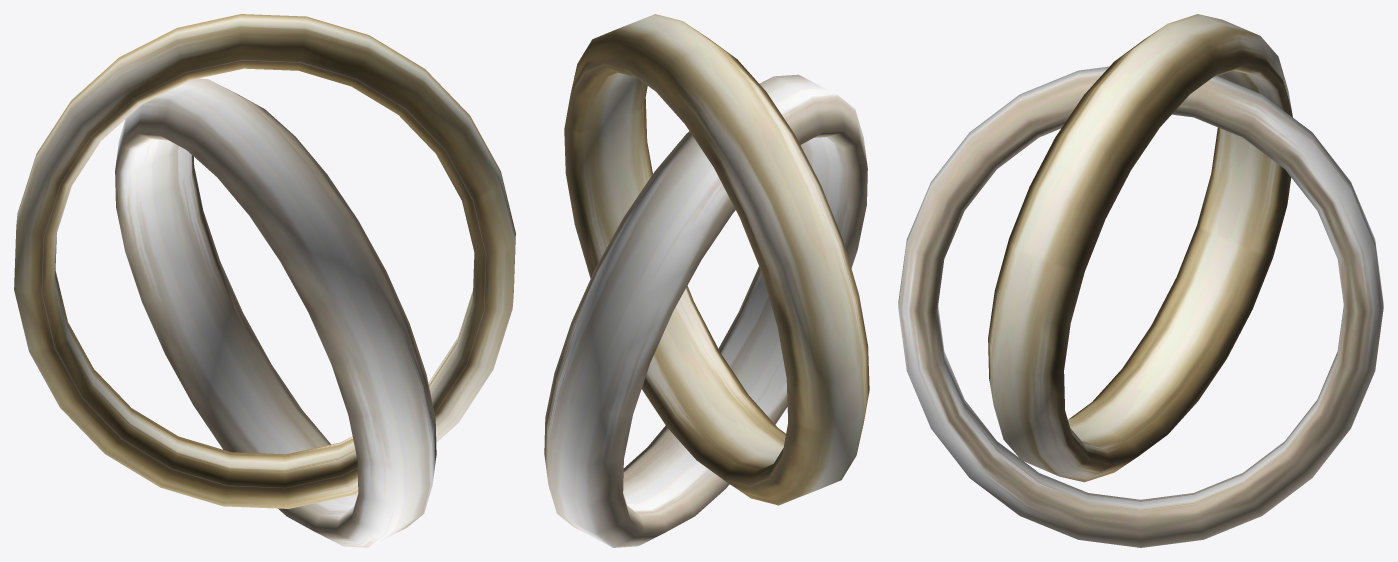
File: static.ico.obj
3 views of the same model, side by side, from view 1: azimuth 30°, elevation 25°; view 2: azimuth 150°, elevation 25°; view 3: azimuth 270°, elevation 25° (orthographic). The views are drawn at different scales.
Size of the model in its own units: 3.57 by 4.38 by 3.94.
1 material, 1 textured.
